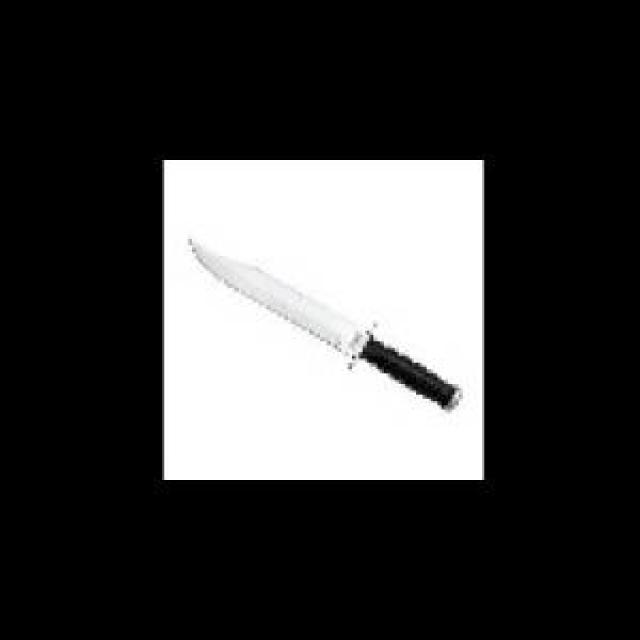knife: (183, 226, 477, 423)
